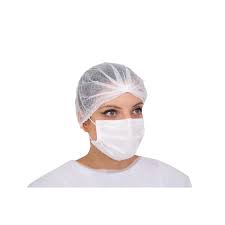with_mask_and_cap: (75, 64, 145, 162)
